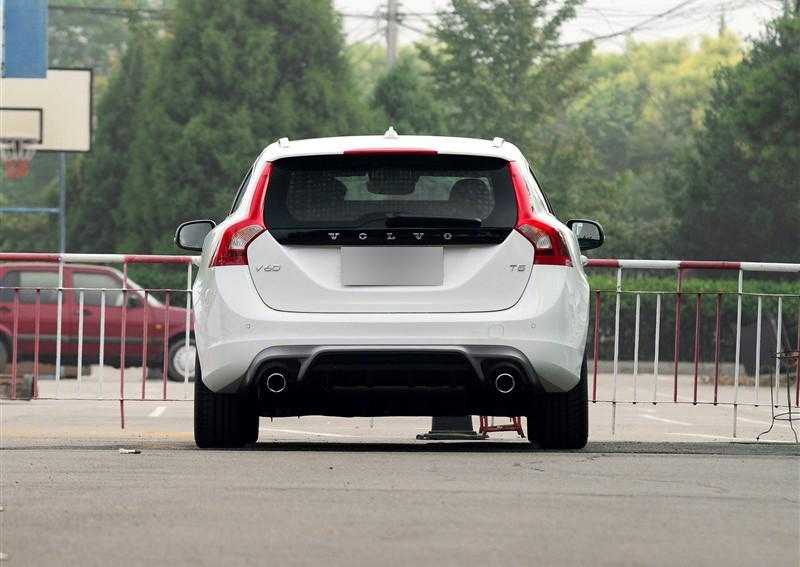Wagon: (164, 124, 610, 458)
